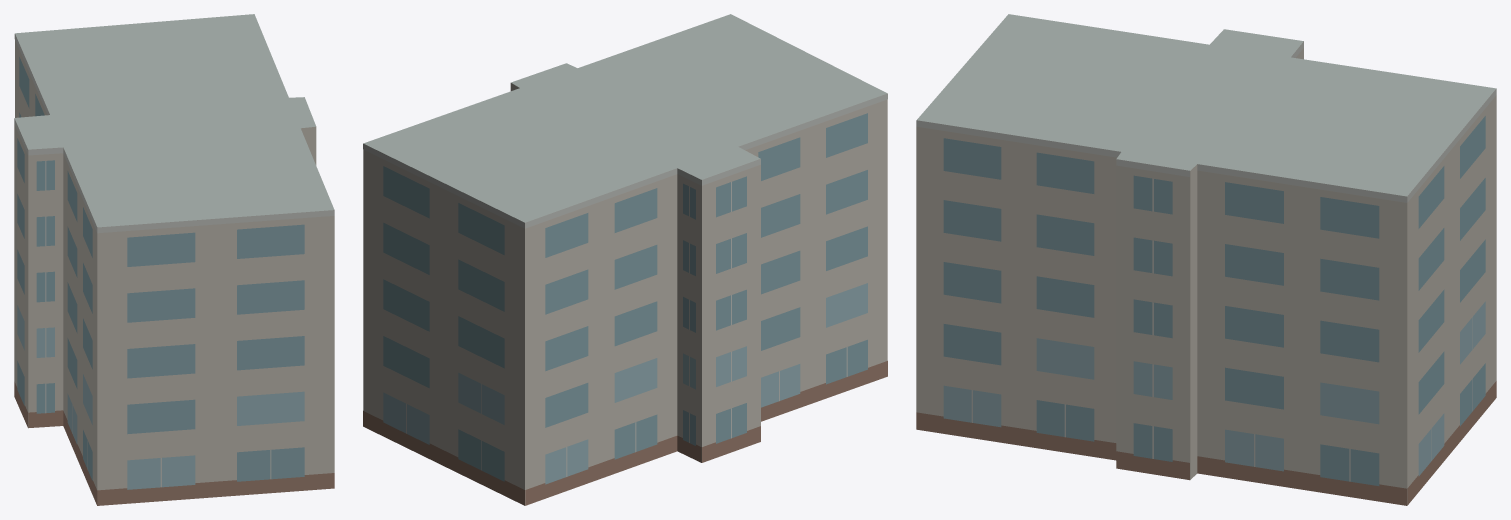
The model's file is survey-upis-32756410.glb.
The picture shows the model from 3 angles, left to right: view 1: azimuth 30°, elevation 25°; view 2: azimuth 150°, elevation 25°; view 3: azimuth 270°, elevation 25°; orthographic projection. The views are drawn at different scales.
Parts seen in each view (by area): view 1: survey-upis-32756410.tmp; view 2: survey-upis-32756410.tmp; view 3: survey-upis-32756410.tmp.
Boxes of the visible parts, x1,y1,x2,y2 form: survey-upis-32756410.tmp: [14, 14, 334, 505]; survey-upis-32756410.tmp: [363, 14, 887, 505]; survey-upis-32756410.tmp: [916, 14, 1496, 505].
Size of the model in its own units: 14.81 by 11.7 by 19.89.
